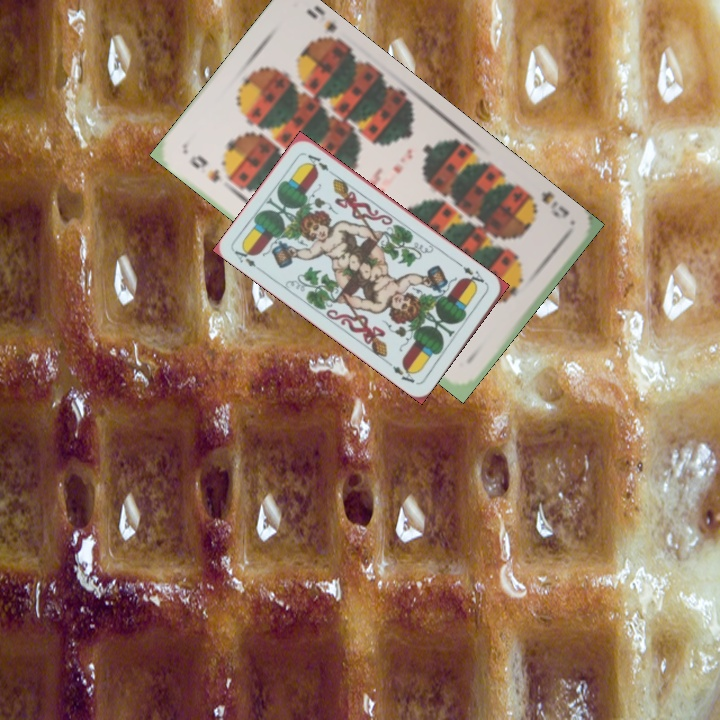EA: (230, 243, 266, 275), (455, 259, 490, 289)
S9: (521, 187, 572, 221), (185, 151, 223, 185)
